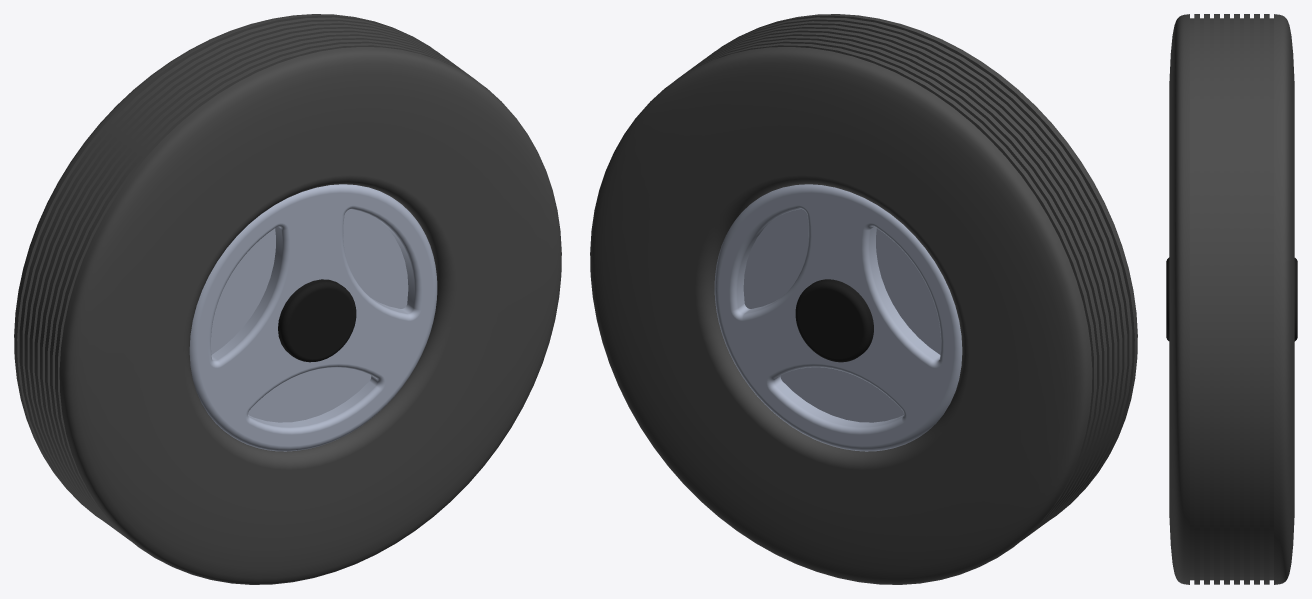
The model's file is caster_wheel.dae.
The picture shows the model from 3 angles, left to right: view 1: azimuth 30°, elevation 25°; view 2: azimuth 150°, elevation 25°; view 3: azimuth 270°, elevation 25°; orthographic projection.
Visible parts, largest first — view 1: _3DGeom_52, _3DGeom_123, _3DGeom_53, _3DGeom_122; view 2: _3DGeom_52, _3DGeom_123, _3DGeom_53, _3DGeom_5; view 3: _3DGeom_52, _3DGeom_5, _3DGeom_122.
Part boxes in pixels (<box>): _3DGeom_52: <box>14,14,561,584</box>; _3DGeom_123: <box>189,184,437,451</box>; _3DGeom_53: <box>182,175,456,470</box>; _3DGeom_122: <box>278,279,356,362</box>; _3DGeom_52: <box>590,14,1137,584</box>; _3DGeom_123: <box>714,184,962,451</box>; _3DGeom_53: <box>695,175,969,470</box>; _3DGeom_5: <box>795,279,873,362</box>; _3DGeom_52: <box>1169,14,1294,584</box>; _3DGeom_5: <box>1294,258,1297,341</box>; _3DGeom_122: <box>1166,257,1169,340</box>.
Size of the model in its own units: 0.2 by 0.046 by 0.2.
